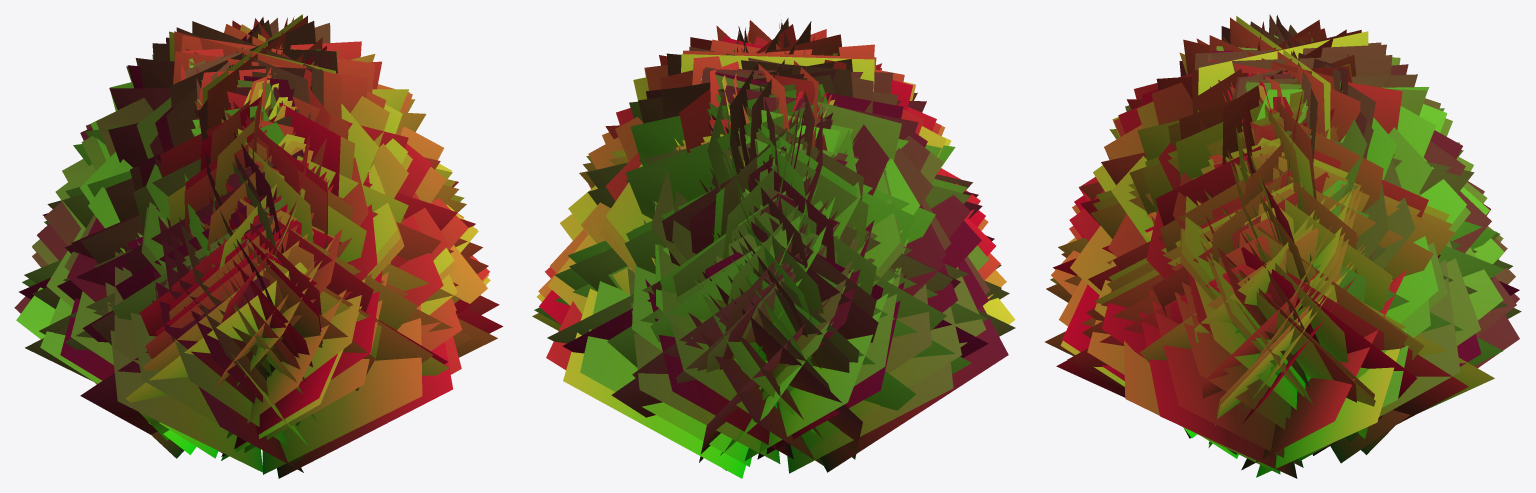
The model's file is URP_P4_Tree_5_LOD_0.fbx.
The picture shows the model from 3 angles, left to right: view 1: azimuth 30°, elevation 25°; view 2: azimuth 150°, elevation 25°; view 3: azimuth 270°, elevation 25°; orthographic projection.
Visible parts, largest first — view 1: Tree_5_LOD_0; view 2: Tree_5_LOD_0; view 3: Tree_5_LOD_0.
Boxes of the visible parts, box(x1,y1,x2,y2) form: Tree_5_LOD_0: box(14, 14, 502, 478); Tree_5_LOD_0: box(532, 18, 1015, 478); Tree_5_LOD_0: box(1045, 14, 1521, 478).
Size of the model in its own units: 209 by 189 by 209.
